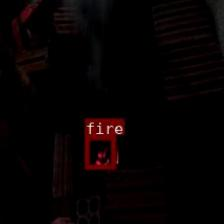fire: (85, 134, 115, 169)
